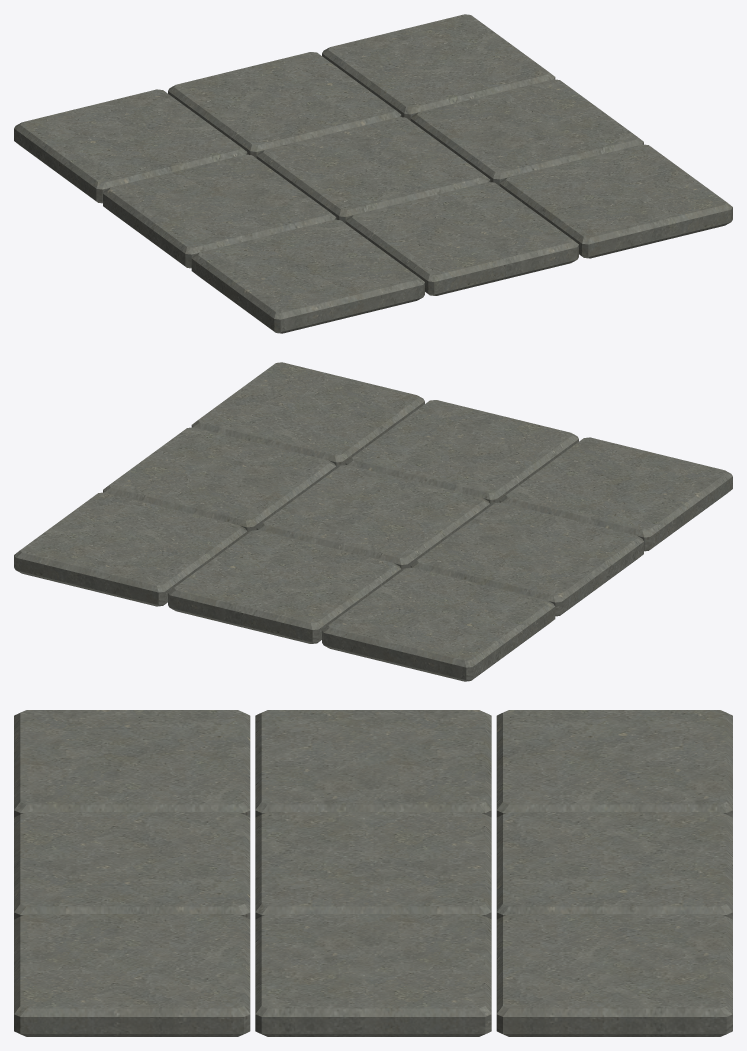
The picture shows the model from 3 angles, top to bottom: view 1: azimuth 30°, elevation 25°; view 2: azimuth 150°, elevation 25°; view 3: azimuth 270°, elevation 25°; orthographic projection. The views are drawn at different scales.
Visible parts, largest first — view 1: body; view 2: body; view 3: body.
Boxes of the visible parts, x1=… form: body: x1=14, y1=14, x2=732, y2=333; body: x1=14, y1=362, x2=732, y2=681; body: x1=14, y1=710, x2=732, y2=1036.
Size of the model in its own units: 2.98 by 0.1299 by 2.98.
Materials: 1 (1 with a texture image).
